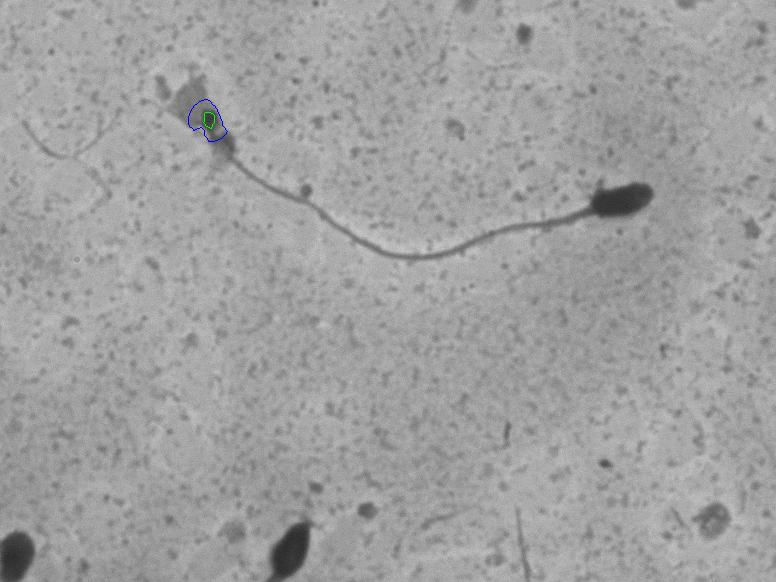Abnormal: (222, 94, 717, 300)
